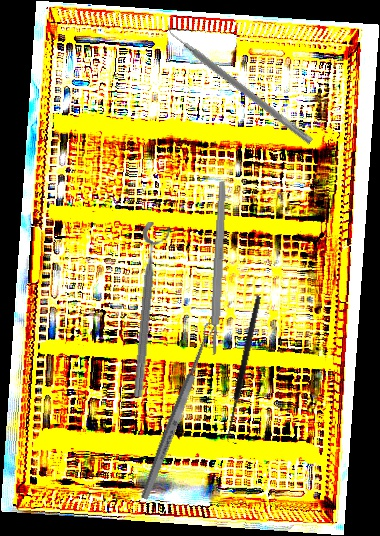Fixation Ring: (128, 221, 173, 399)
Hook Surgical: (224, 295, 269, 445)
Scalpel Handle: (208, 180, 228, 356)
Spatula Surgical: (161, 21, 319, 145)
Surgical Spoon: (138, 321, 218, 501)
